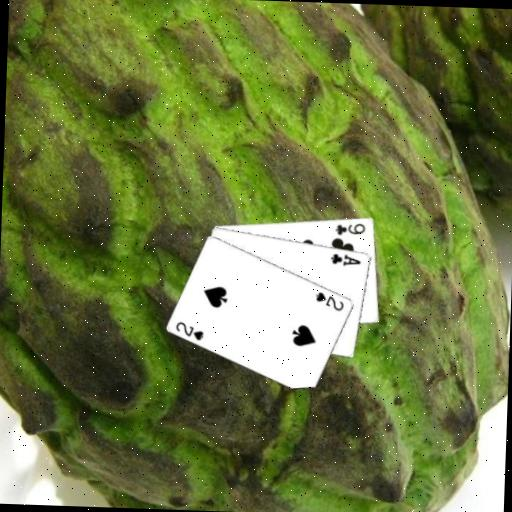2S: (312, 288, 345, 312), (173, 318, 206, 342)
9C: (331, 219, 367, 237)
AC: (328, 249, 363, 267)
